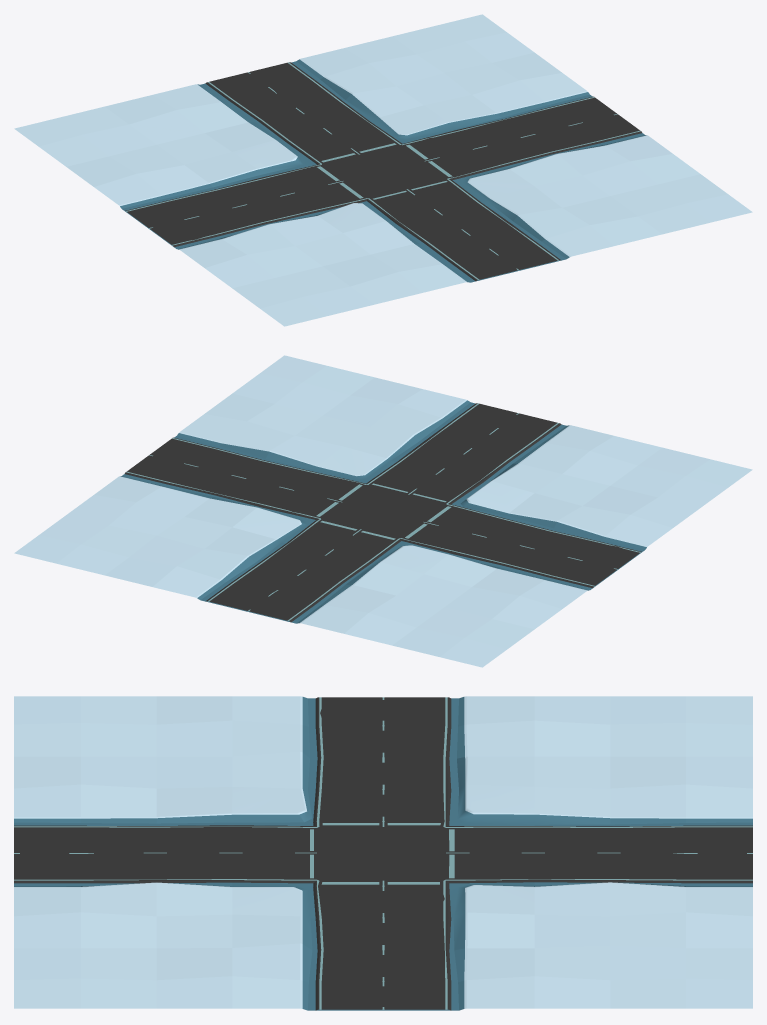
Rendered from model_road_snow_crossroad_02.fbx.
3 views of the same model, one above another, from view 1: azimuth 30°, elevation 25°; view 2: azimuth 150°, elevation 25°; view 3: azimuth 270°, elevation 25° (orthographic). The views are drawn at different scales.
Parts seen in each view (by area): view 1: model_road_snow_crossroad_02; view 2: model_road_snow_crossroad_02; view 3: model_road_snow_crossroad_02.
Boxes of the visible parts, x1,y1,x2,y2 form: model_road_snow_crossroad_02: [14, 14, 752, 326]; model_road_snow_crossroad_02: [14, 355, 752, 667]; model_road_snow_crossroad_02: [14, 696, 752, 1010].
Bounding box in the file's own units: 6000 × 62.08 × 6000.
Materials: 1 (1 with a texture image).
